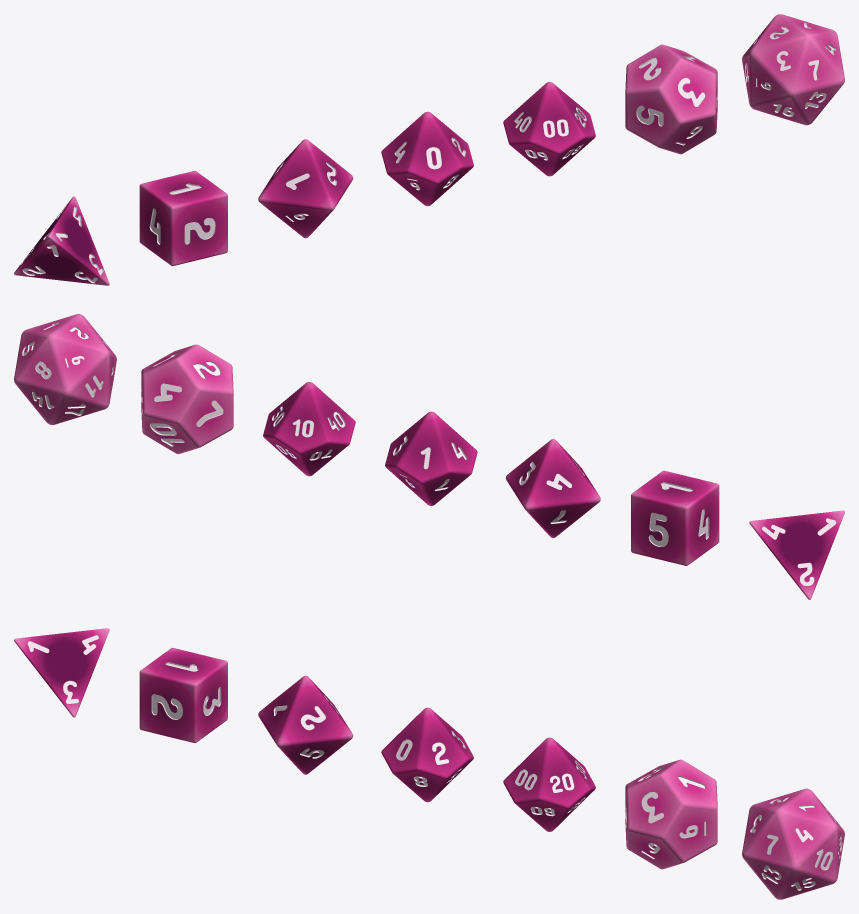
File: fuchsia.glb
3 views of the same model, one above another, from view 1: azimuth 30°, elevation 25°; view 2: azimuth 150°, elevation 25°; view 3: azimuth 330°, elevation 25° (orthographic).
Visible parts, largest first — view 1: d20, d12, d6, d100, d10, d8, d4; view 2: d20, d12, d6, d100, d10, d8, d4; view 3: d20, d12, d6, d8, d10, d100, d4.
Boxes of the visible parts, x1,y1,x2,y2 form: d20: [742, 14, 844, 125]; d12: [625, 44, 717, 154]; d6: [139, 171, 227, 266]; d100: [503, 82, 595, 176]; d10: [381, 111, 473, 206]; d8: [258, 139, 353, 238]; d4: [14, 196, 109, 285]; d20: [14, 314, 116, 424]; d12: [141, 344, 233, 453]; d6: [631, 470, 719, 565]; d100: [263, 382, 355, 476]; d10: [385, 411, 477, 505]; d8: [505, 439, 600, 537]; d4: [749, 510, 844, 599]; d20: [742, 788, 844, 899]; d12: [625, 759, 717, 869]; d6: [139, 647, 227, 742]; d8: [258, 675, 353, 774]; d10: [381, 707, 473, 802]; d100: [503, 737, 595, 831]; d4: [14, 628, 109, 717].
Bounding box in the file's own units: 21.14 × 2.47 × 2.47.
Materials: 14 (7 with a texture image).
